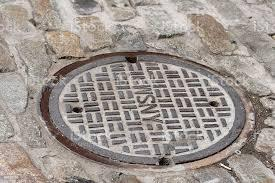closed manhole-not overflowing-: (44, 48, 249, 164)
